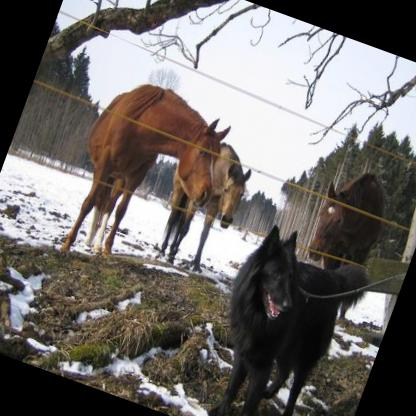groenendael: (184, 214, 378, 416)
